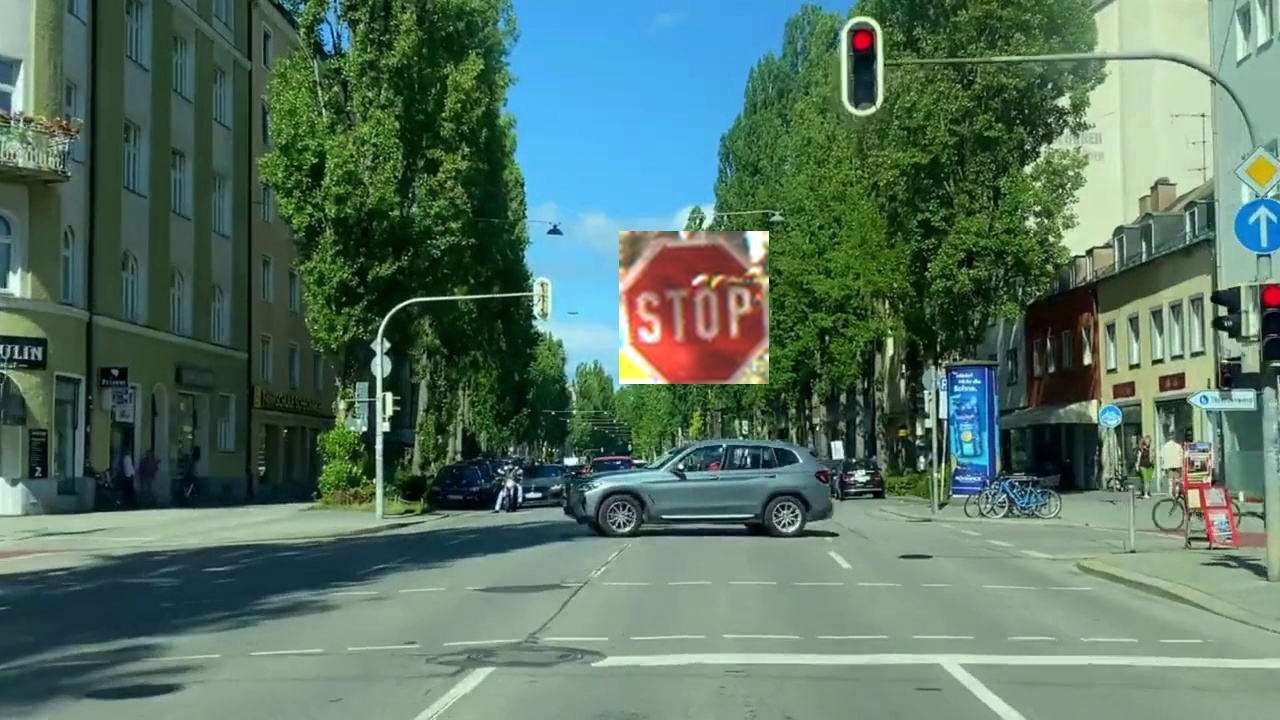Stop: (619, 231, 769, 384)
